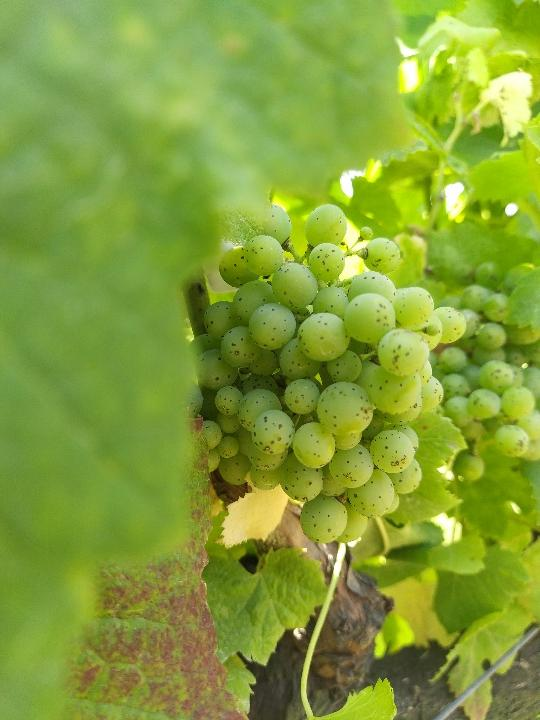grape: (185, 201, 468, 542)
